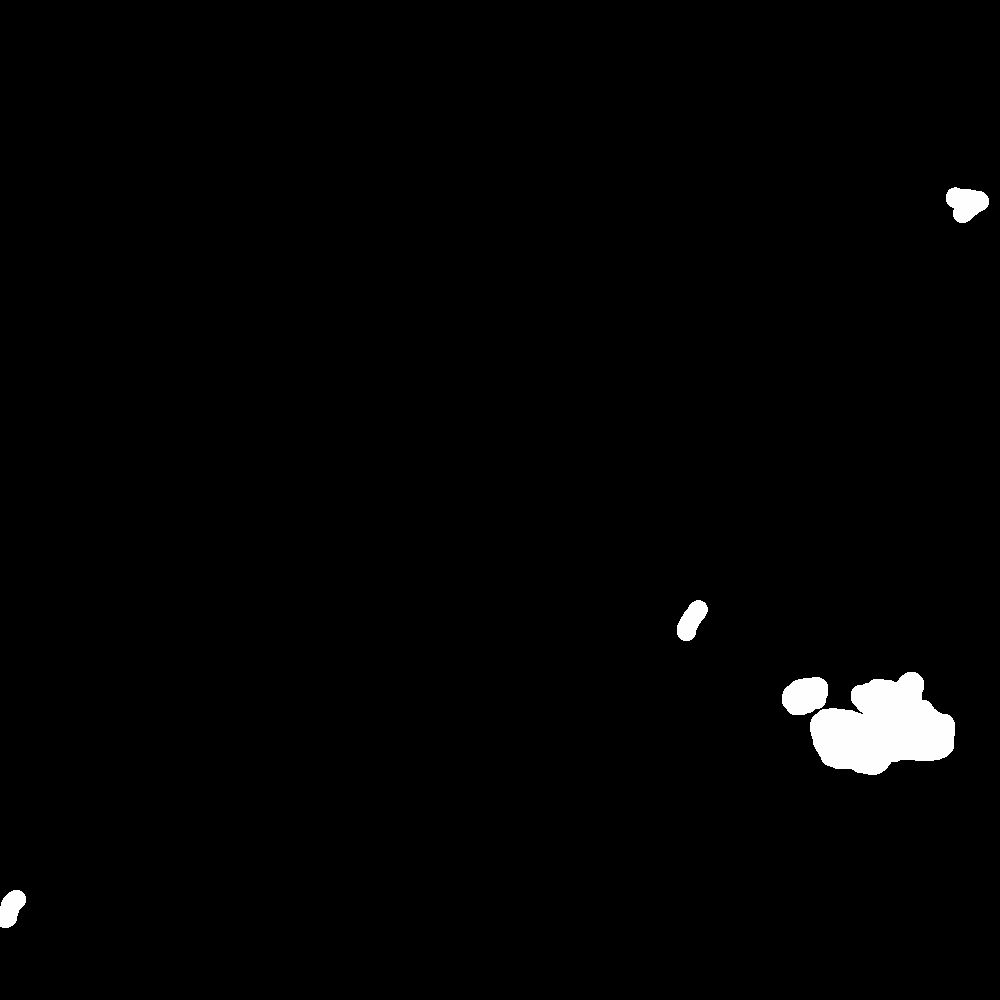illegal: (784, 671, 953, 779), (940, 1, 1000, 244), (268, 884, 354, 935), (97, 912, 147, 948), (1, 883, 35, 924)
